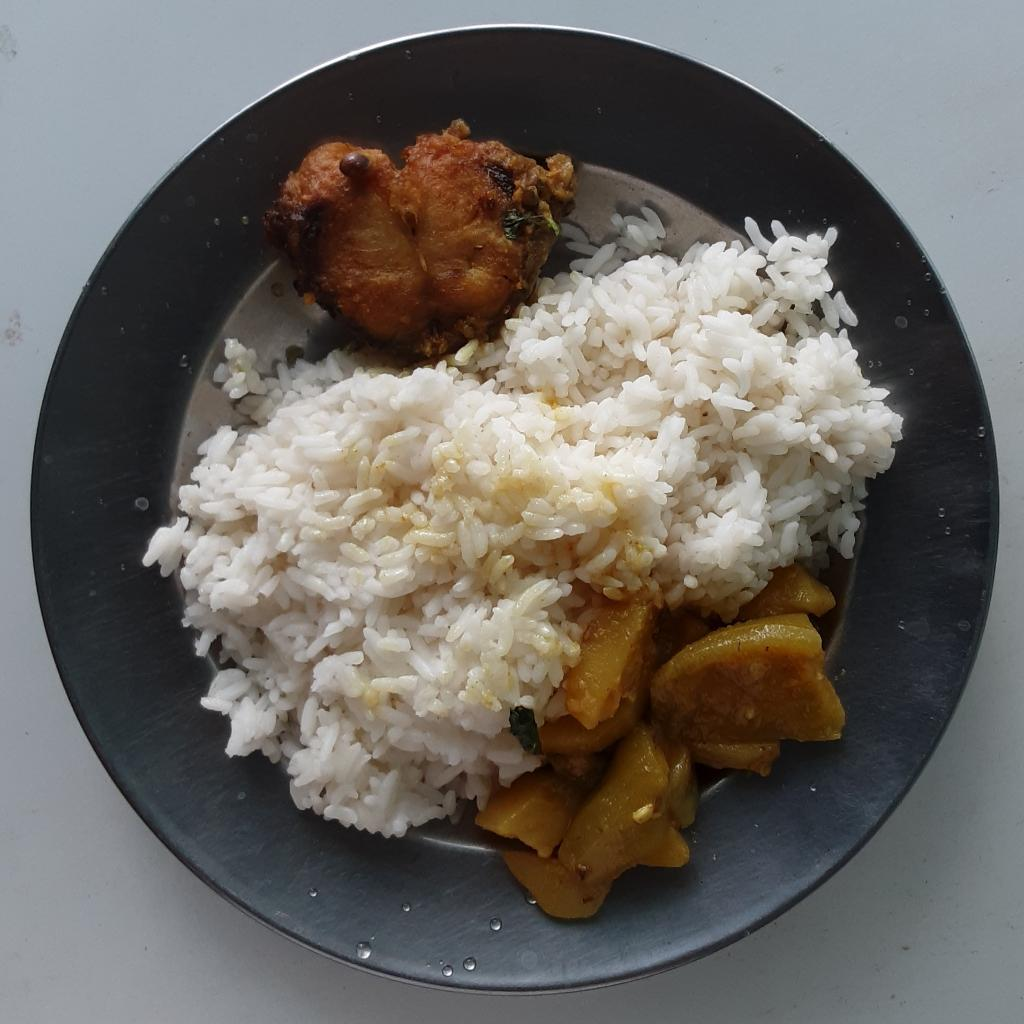fish: (283, 117, 586, 362)
potato: (468, 700, 633, 917)
potol: (534, 560, 854, 875)
rice: (135, 206, 906, 833)
